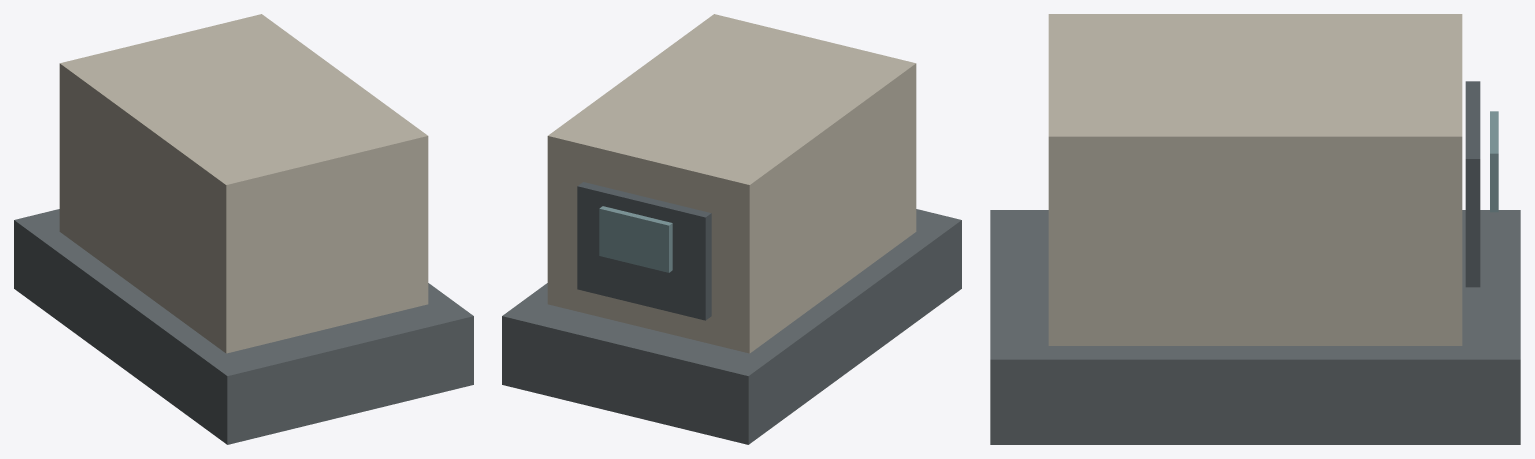
File: iz3_environment_scooter_01.glb
3 views of the same model, side by side, from view 1: azimuth 30°, elevation 25°; view 2: azimuth 150°, elevation 25°; view 3: azimuth 270°, elevation 25° (orthographic). The views are drawn at different scales.
Visible parts, largest first — view 1: cabinet, base; view 2: cabinet, base, panel, display; view 3: cabinet, base, panel, display.
Boxes of the visible parts, left/top/right/bottom form: cabinet: left=59, top=14, right=428, bottom=353; base: left=14, top=209, right=473, bottom=444; cabinet: left=547, top=14, right=916, bottom=353; base: left=502, top=209, right=961, bottom=444; panel: left=577, top=182, right=711, bottom=320; display: left=599, top=206, right=672, bottom=272; cabinet: left=1048, top=14, right=1462, bottom=345; base: left=990, top=210, right=1520, bottom=444; panel: left=1465, top=81, right=1480, bottom=287; display: left=1490, top=111, right=1498, bottom=212.
Size of the model in its own units: 1.2 by 1.1 by 1.8.
